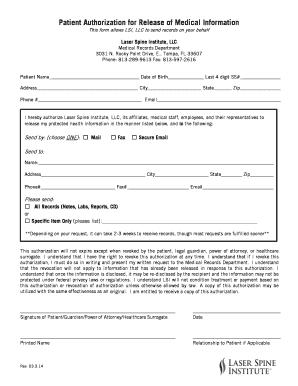checkbox: (82, 134, 90, 142), (23, 216, 30, 224), (132, 133, 138, 142), (111, 132, 117, 141), (23, 204, 32, 210)
textline: (39, 160, 274, 168), (17, 304, 177, 315), (103, 217, 259, 227), (19, 333, 181, 342), (156, 94, 283, 105), (50, 71, 140, 83), (38, 96, 143, 106), (192, 307, 287, 318), (41, 171, 146, 180), (190, 331, 284, 341), (203, 181, 276, 193), (36, 85, 140, 92), (42, 184, 115, 192), (156, 172, 211, 180), (127, 185, 189, 192), (146, 85, 203, 92), (240, 74, 281, 83), (238, 86, 282, 92), (167, 75, 204, 81), (249, 174, 275, 180), (215, 84, 232, 92), (221, 174, 242, 179)
